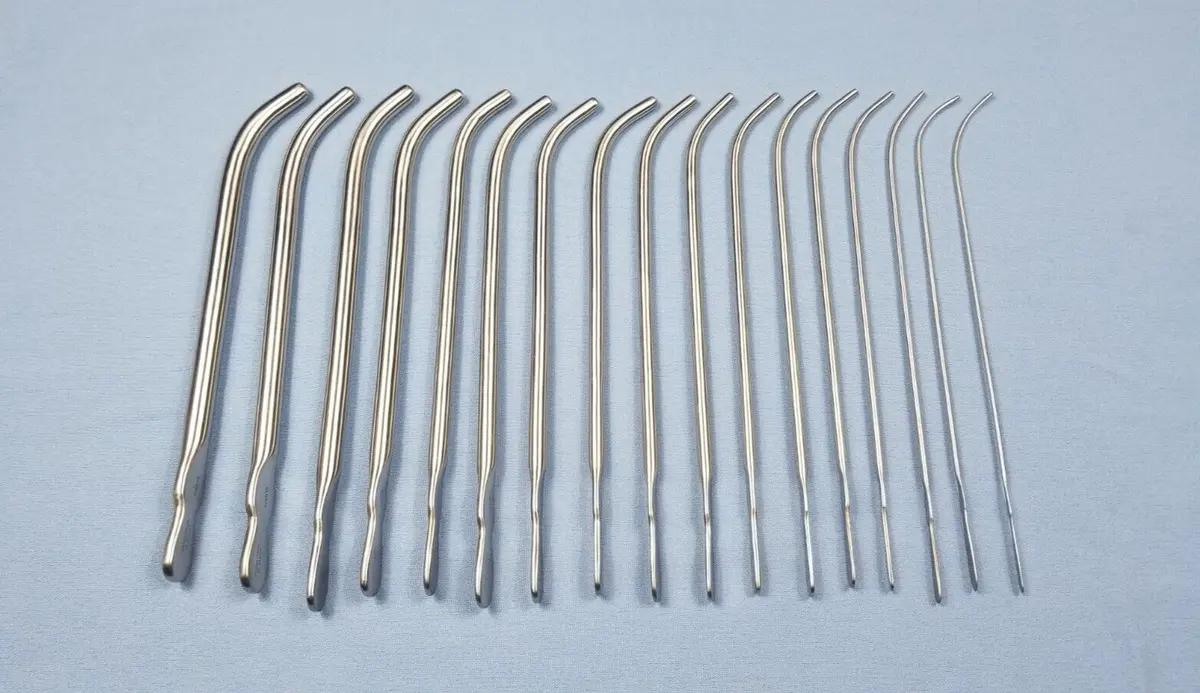Urethral Dilators: (153, 71, 324, 603), (211, 79, 370, 588), (288, 81, 440, 613), (405, 91, 546, 616), (347, 84, 488, 608), (451, 90, 569, 627), (506, 95, 624, 608), (933, 81, 1040, 617), (565, 93, 668, 608), (834, 85, 910, 612), (802, 84, 877, 611), (634, 94, 708, 622), (728, 85, 797, 615), (761, 89, 828, 603), (684, 92, 747, 611), (916, 82, 958, 614)
